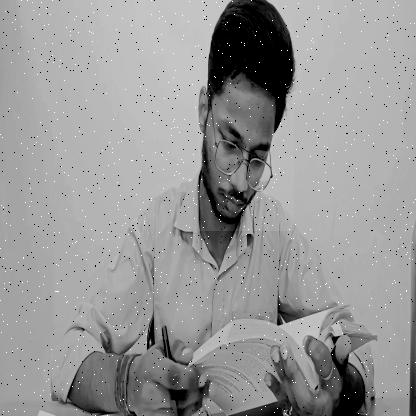Distracted: (199, 0, 294, 231)
